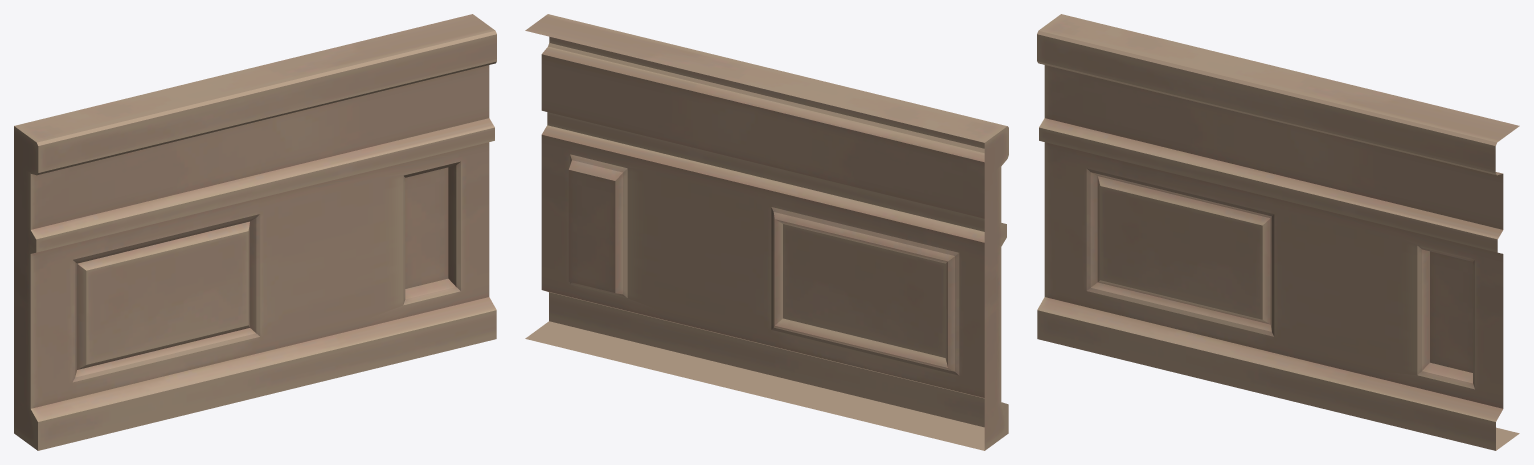
File: WallPanel.fbx
The picture shows the model from 3 angles, left to right: view 1: azimuth 30°, elevation 25°; view 2: azimuth 150°, elevation 25°; view 3: azimuth 330°, elevation 25°; orthographic projection.
Visible parts, largest first — view 1: WallPanel (6); view 2: WallPanel (6); view 3: WallPanel (6).
Boxes of the visible parts, x1,y1,x2,y2 form: WallPanel (6): [14, 14, 496, 450]; WallPanel (6): [525, 14, 1008, 450]; WallPanel (6): [1037, 14, 1519, 450].
Bounding box in the file's own units: 886 × 567 × 80.93.
